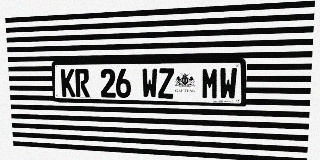2: (100, 69, 116, 98)
6: (115, 68, 131, 98)
K: (61, 69, 75, 97)
M: (201, 68, 219, 99)
R: (75, 69, 90, 97)
W: (219, 68, 237, 100), (142, 68, 158, 98)
Z: (158, 68, 174, 99)
